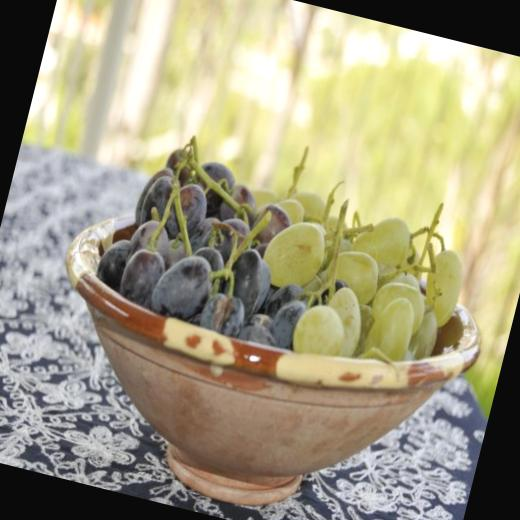Orange: (90, 140, 476, 391)
